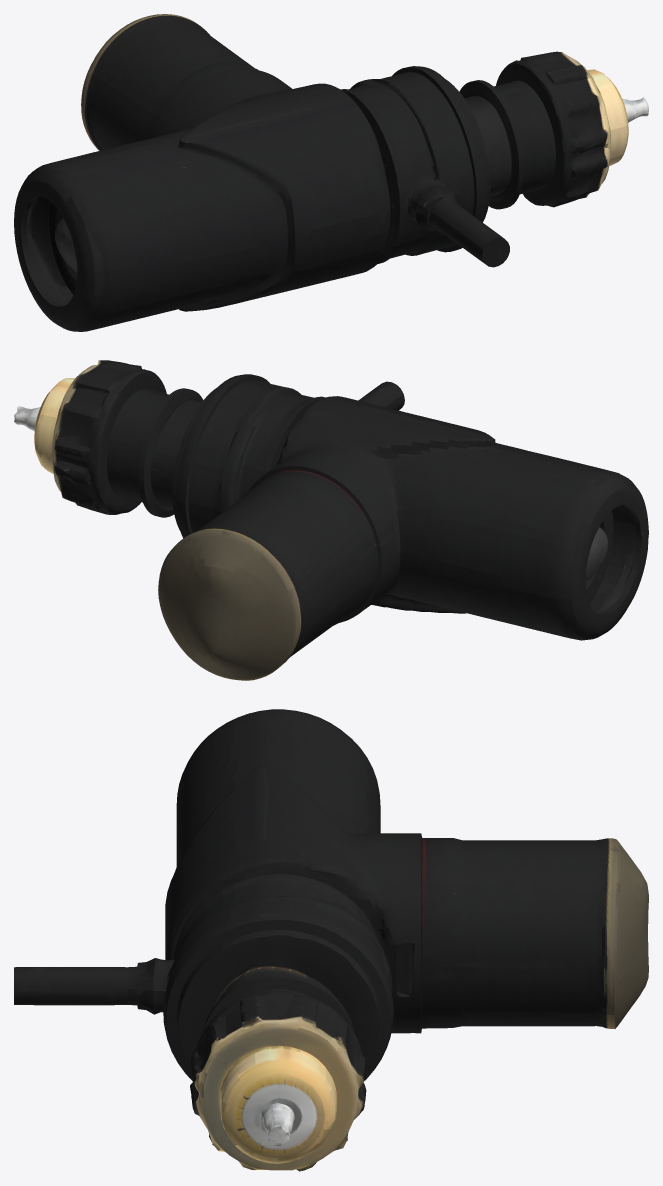
The model's file is vss-sensor.glb.
3 views of the same model, one above another, from view 1: azimuth 30°, elevation 25°; view 2: azimuth 150°, elevation 25°; view 3: azimuth 270°, elevation 25° (orthographic). The views are drawn at different scales.
Bounding box in the file's own units: 1.9 × 0.5328 × 1.49.
Materials: 1 (1 with a texture image).
